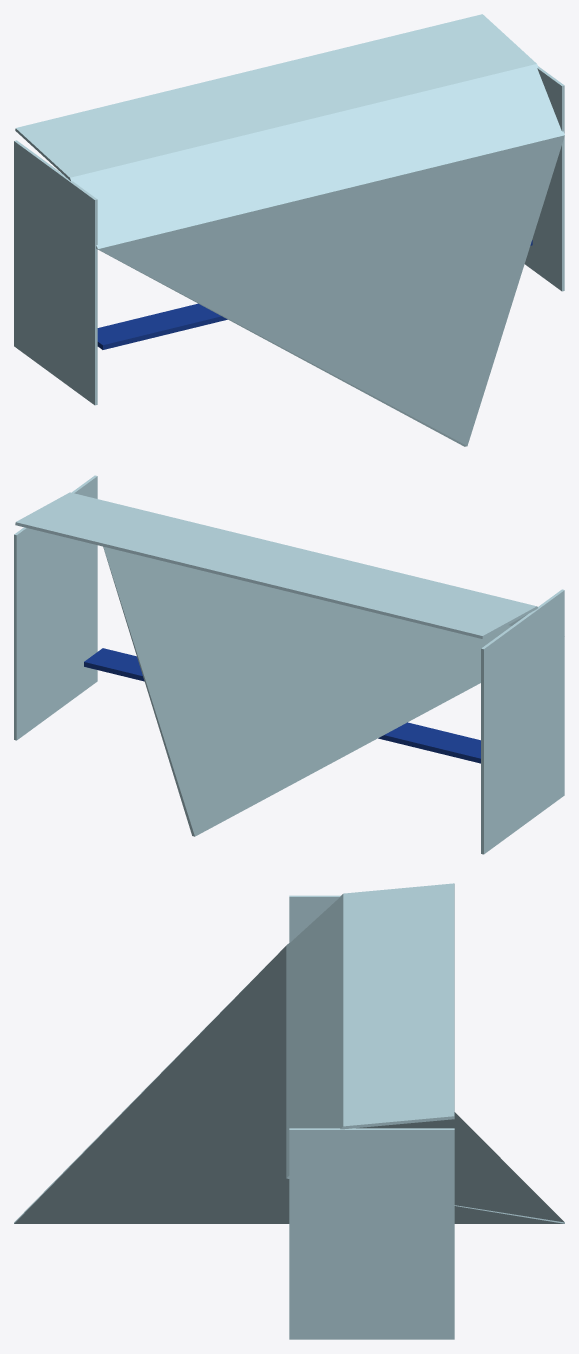
The model's file is sport.pitch.dugout.glb.
3 views of the same model, one above another, from view 1: azimuth 30°, elevation 25°; view 2: azimuth 150°, elevation 25°; view 3: azimuth 270°, elevation 25° (orthographic). The views are drawn at different scales.
Visible parts, largest first — view 1: main__glass, main__plastic_blue; view 2: main__glass, main__plastic_blue; view 3: main__glass.
Part boxes in pixels (bbox=[...]): main__glass: bbox=[14, 14, 564, 446]; main__plastic_blue: bbox=[97, 240, 532, 349]; main__glass: bbox=[14, 475, 564, 854]; main__plastic_blue: bbox=[84, 648, 480, 763]; main__glass: bbox=[14, 883, 564, 1339].
Bounding box in the file's own units: 5.03 × 2.23 × 5.
